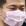with_mask: (1, 2, 26, 26)
